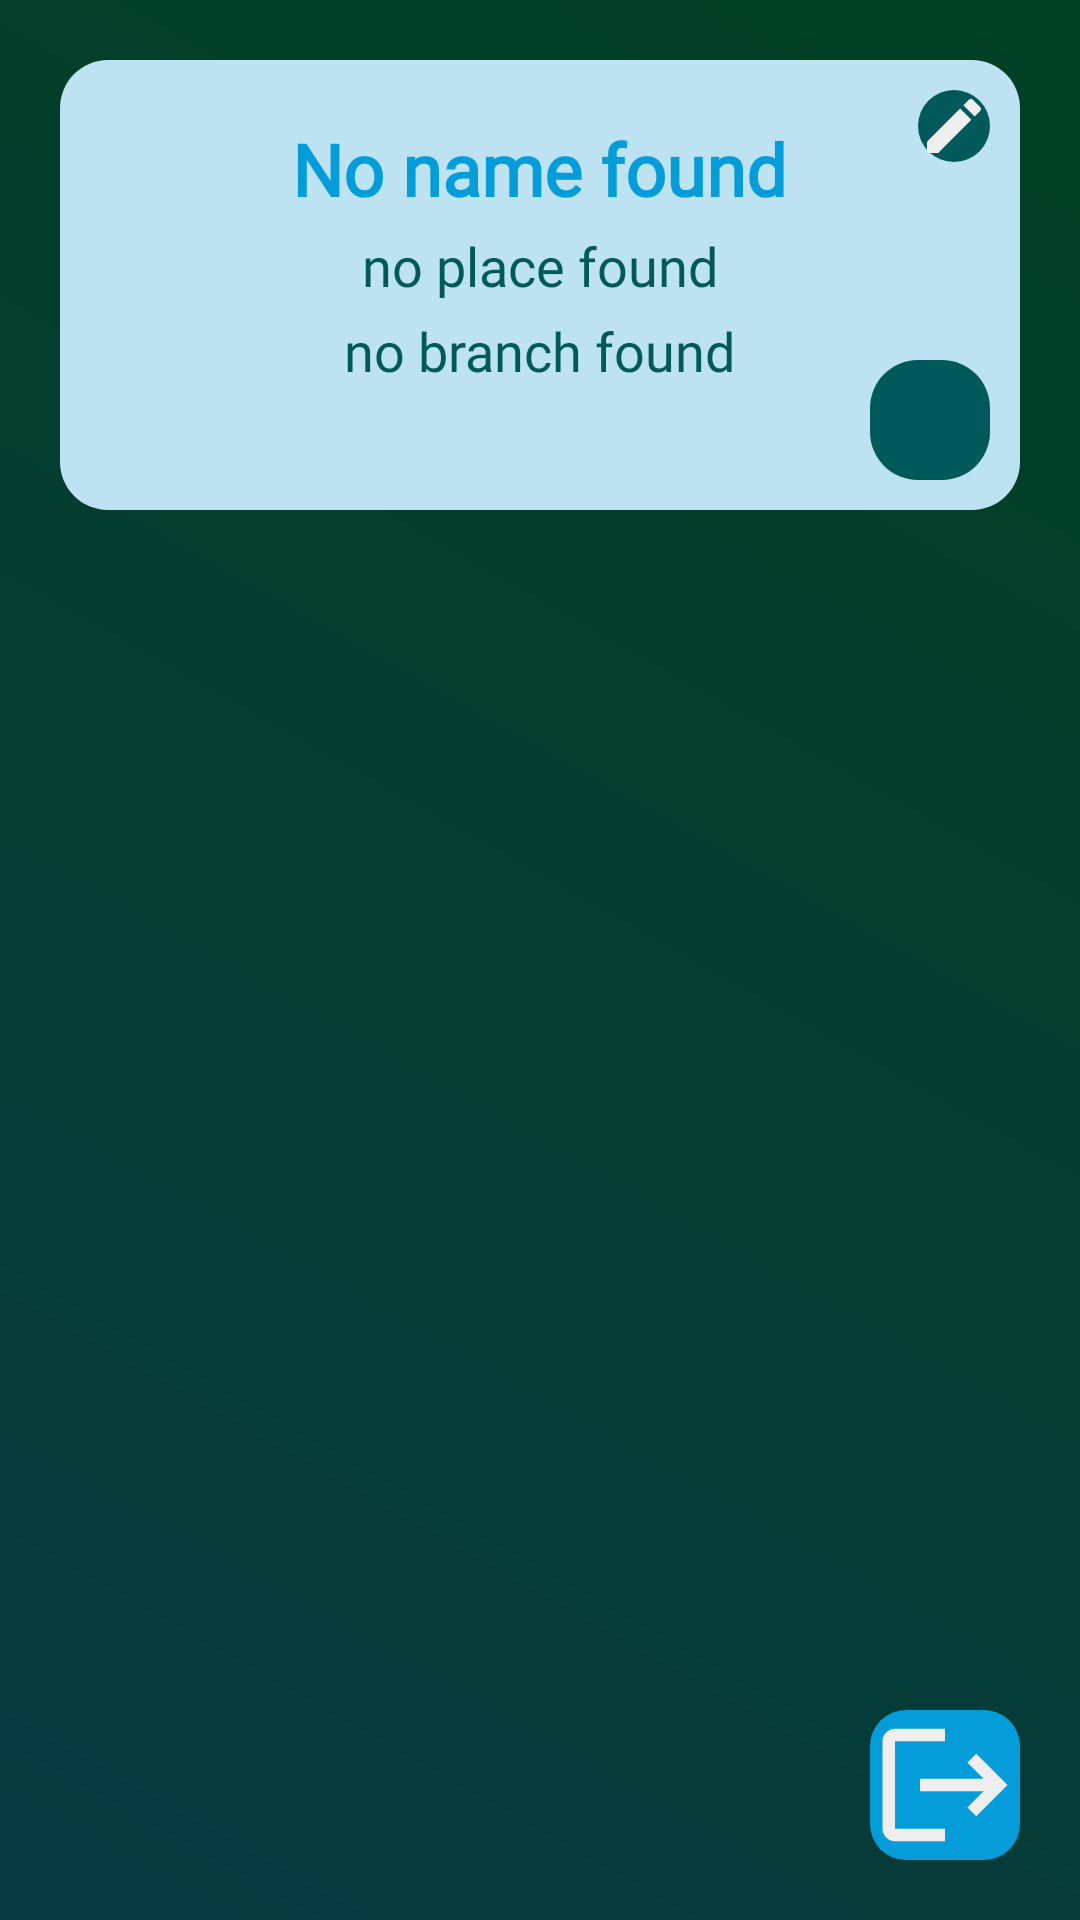

Icon bounding boxes for this 1080px x 1920px phone screenshot, format (x1, y1, x2, y2):
edituserdata: (918, 90, 990, 162)
